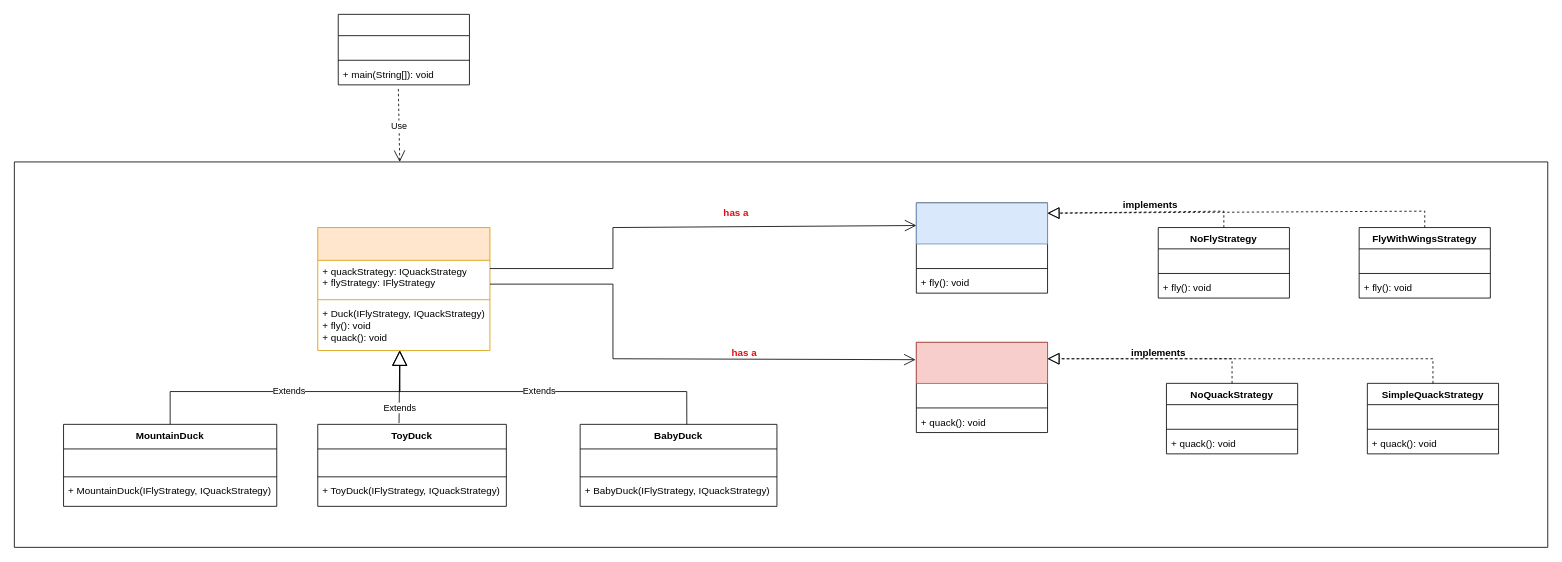
The diagram is 1562 pixels wide and 562 high, and some of its shapes have lost their labels. Here are the shapes that lost their labels. From the top down, the box of each, then its label:
(337, 14, 469, 85): App
(916, 202, 1048, 244): «interface» IFlyStrategy
(317, 227, 490, 351): <<abstract>> Duck
(916, 342, 1048, 383): «interface» IQuackStrategy
